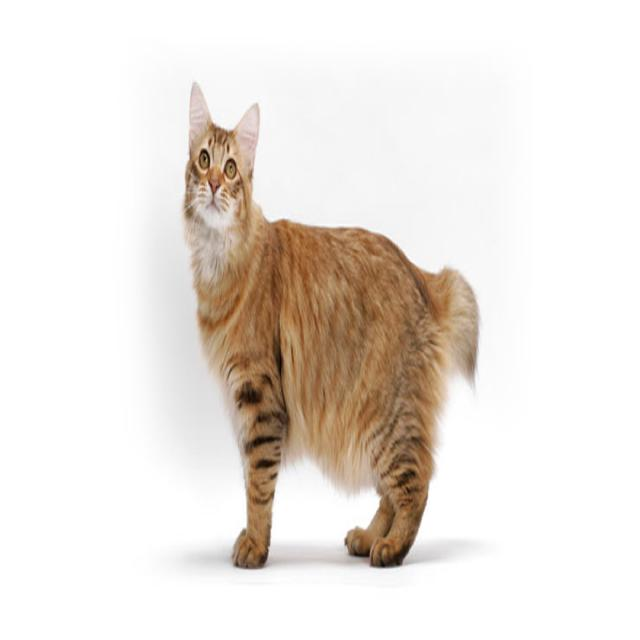American Bobtail: (181, 75, 483, 576)
